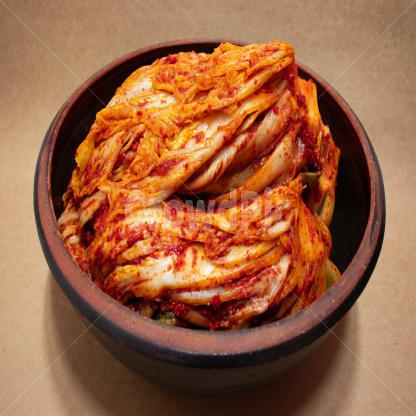kimchi: (51, 40, 356, 208), (83, 174, 351, 344)
